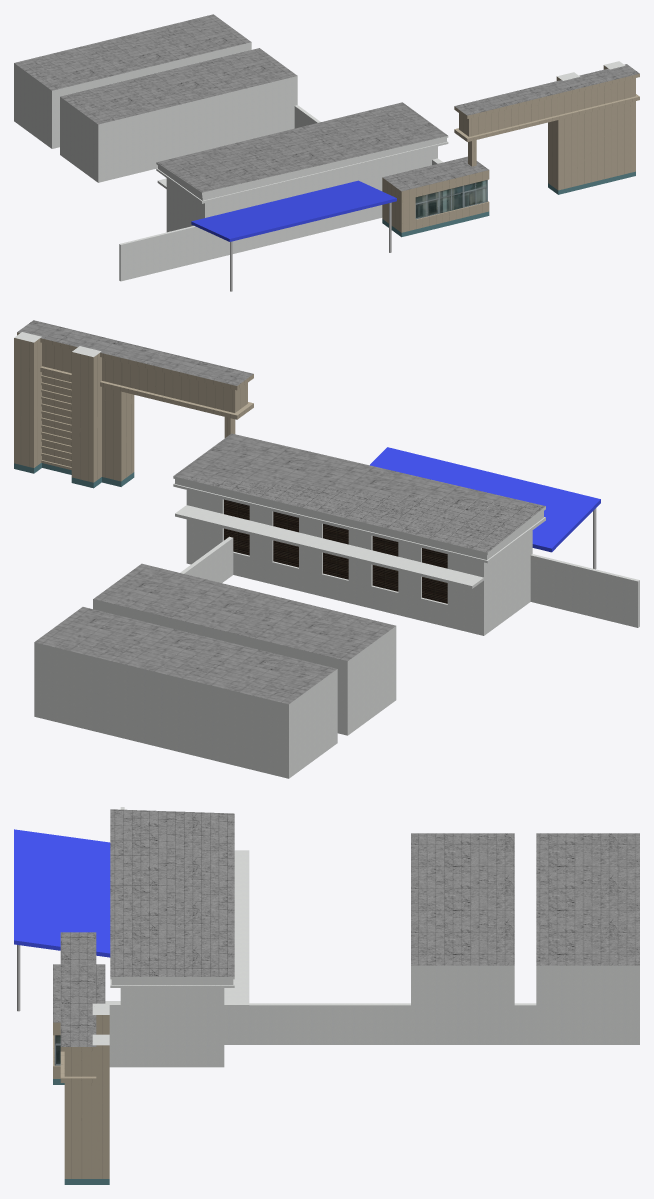
Rendered from SM_Building04.FBX.
3 renders of one model, top to bottom at view 1: azimuth 30°, elevation 25°; view 2: azimuth 150°, elevation 25°; view 3: azimuth 270°, elevation 25°, orthographic. The views are drawn at different scales.
Parts seen in each view (by area): view 1: SM_Building04; view 2: SM_Building04; view 3: SM_Building04.
Part boxes in pixels (bbox=[...]): SM_Building04: bbox=[14, 14, 639, 291]; SM_Building04: bbox=[14, 320, 639, 778]; SM_Building04: bbox=[14, 807, 639, 1184].
Size of the model in its own units: 3748 by 3005 by 740.
